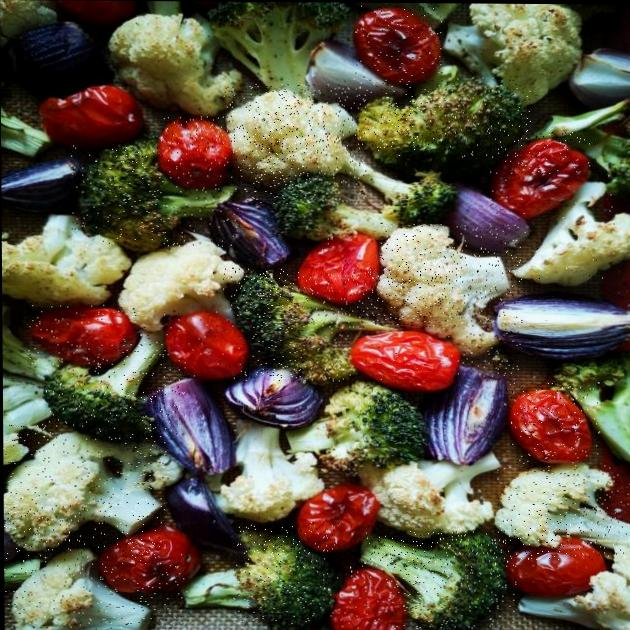Broccoli: (223, 268, 391, 382), (71, 146, 242, 247), (44, 325, 186, 434), (344, 76, 531, 158), (364, 531, 518, 630), (233, 522, 340, 625)
Cauliflower: (381, 223, 523, 378), (3, 424, 169, 547), (223, 84, 367, 204), (4, 548, 189, 630), (510, 174, 630, 295), (497, 463, 630, 561)
Tomato: (490, 132, 595, 217), (510, 382, 600, 471), (350, 327, 463, 393), (26, 304, 138, 367), (354, 6, 442, 86), (163, 311, 253, 378), (300, 232, 382, 305), (159, 116, 233, 191), (331, 565, 409, 630)
